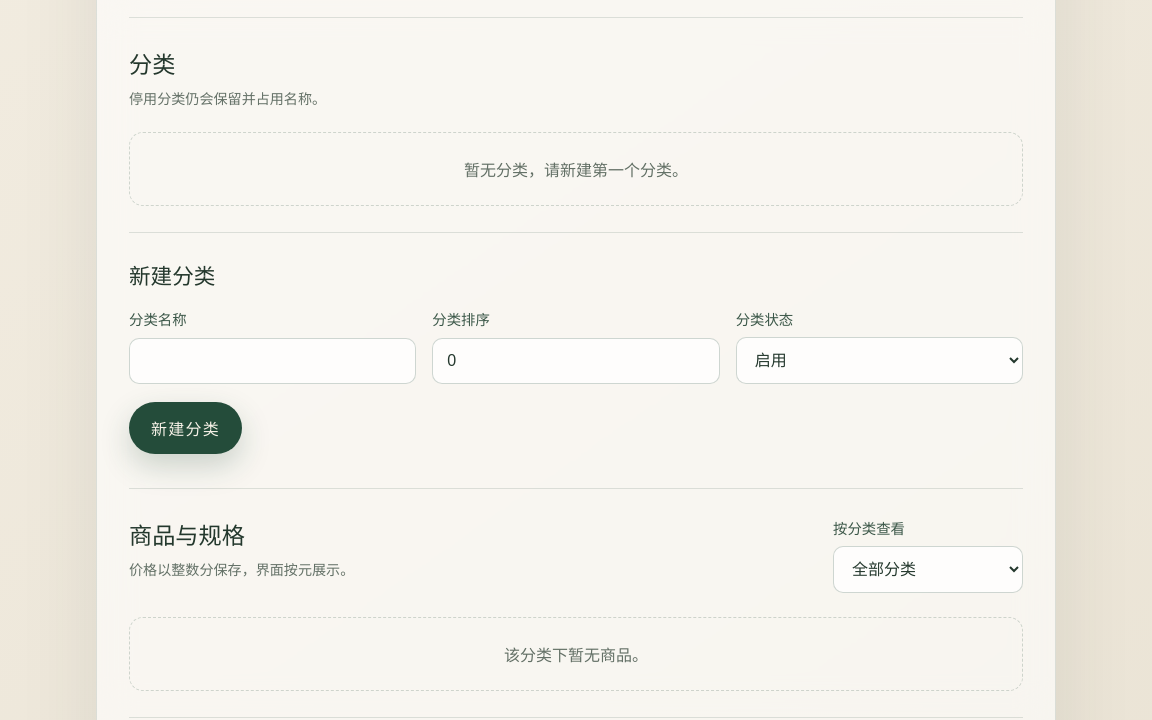
Test: product menu management for signed-in staff › creates and renames a category with trimmed input and string ids
The width and height of the screenshot is (1152, 720).
(page scrolled)
Expected: the text "暂无分类，请新建第一个分类。" is shown, [129,132,1023,206]
Type "  冷饮  " into the field labelled "分类名称" at (273, 361), box [129,338,416,384]
Replace the text in the number field labelled "分类排序" with "3" at (576, 361), box [432,338,720,384]
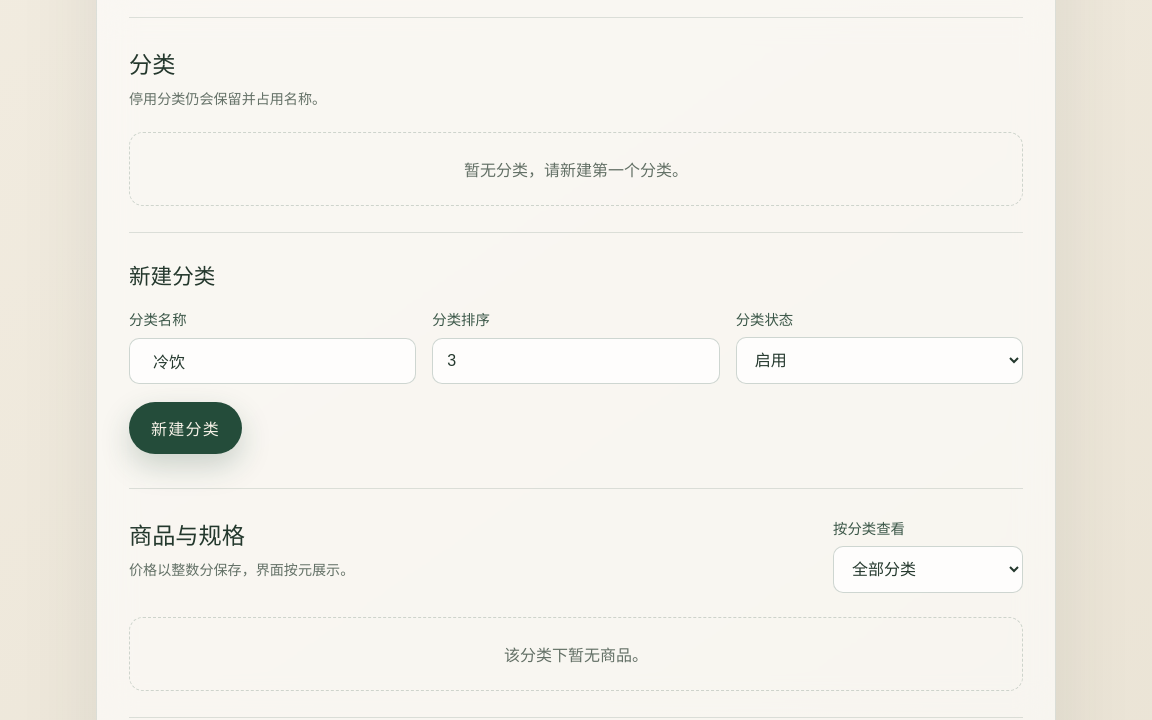
Click the button "新建分类" at (186, 428), box [129,402,242,454]
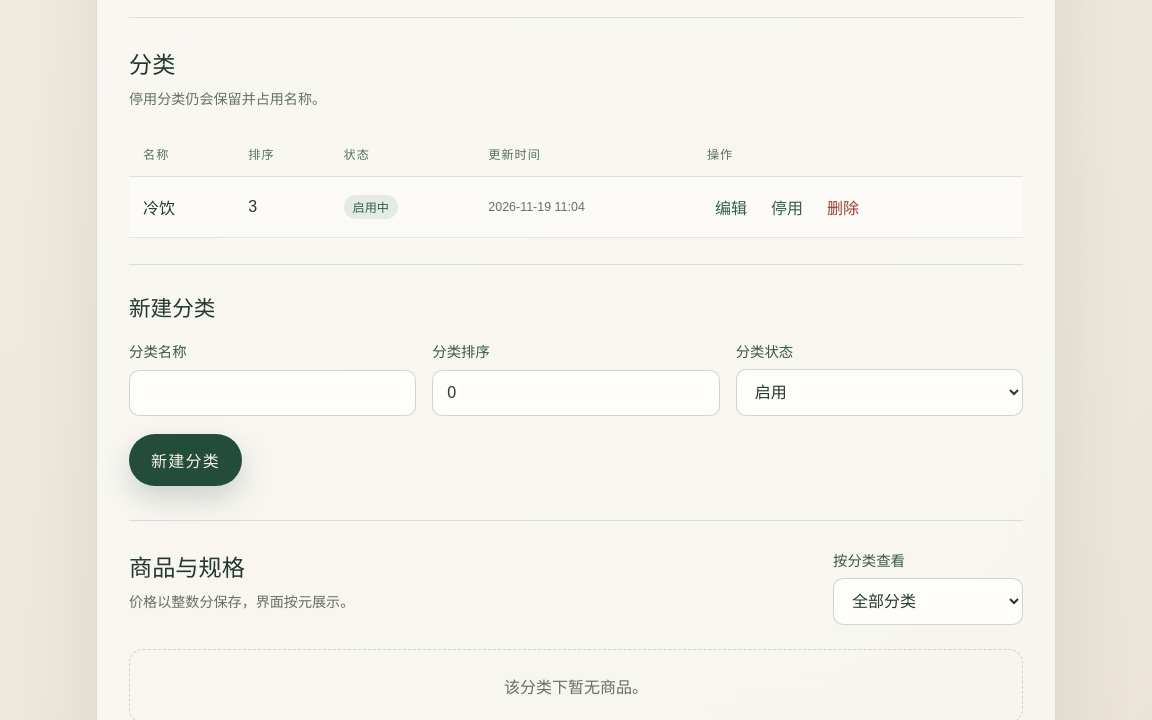
Now the table named "分类列表" is shown, box [129,132,1023,238]
Now the text "冷饮" is shown, box [129,176,234,238]
Click the button with aria-label "编辑分类 冷饮" at (731, 207), box [707,190,755,224]
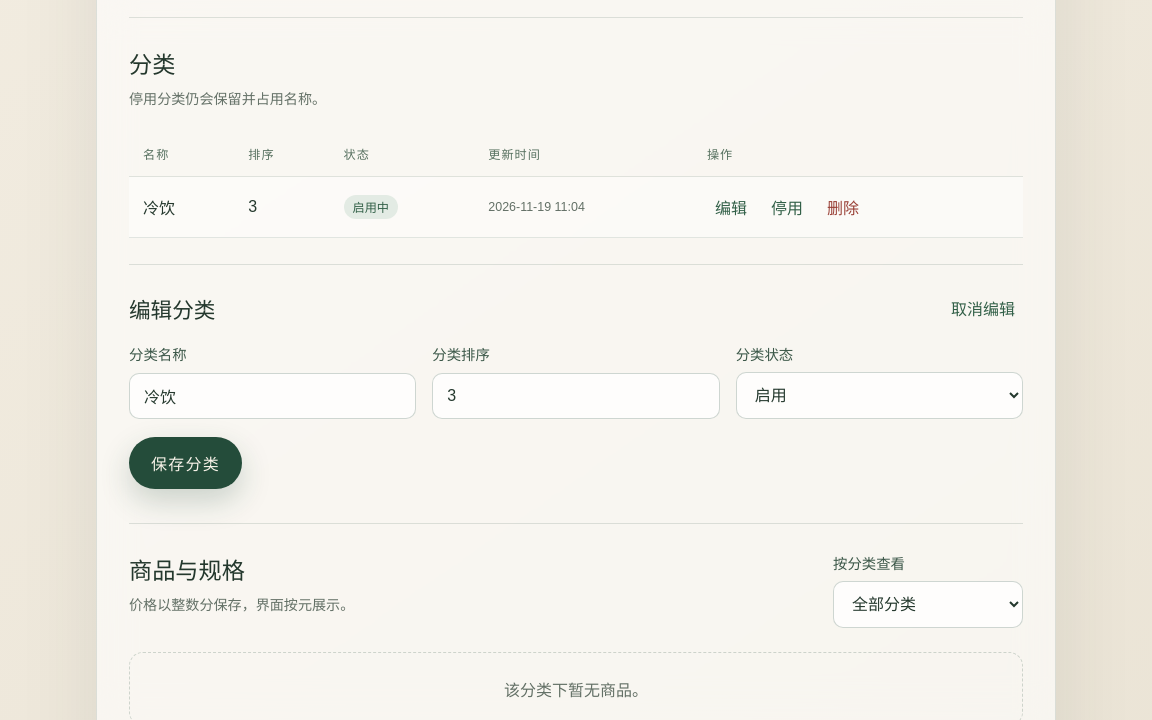
Replace the text in the field labelled "分类名称" with "  冰饮  " at (273, 396), box [129,372,416,419]
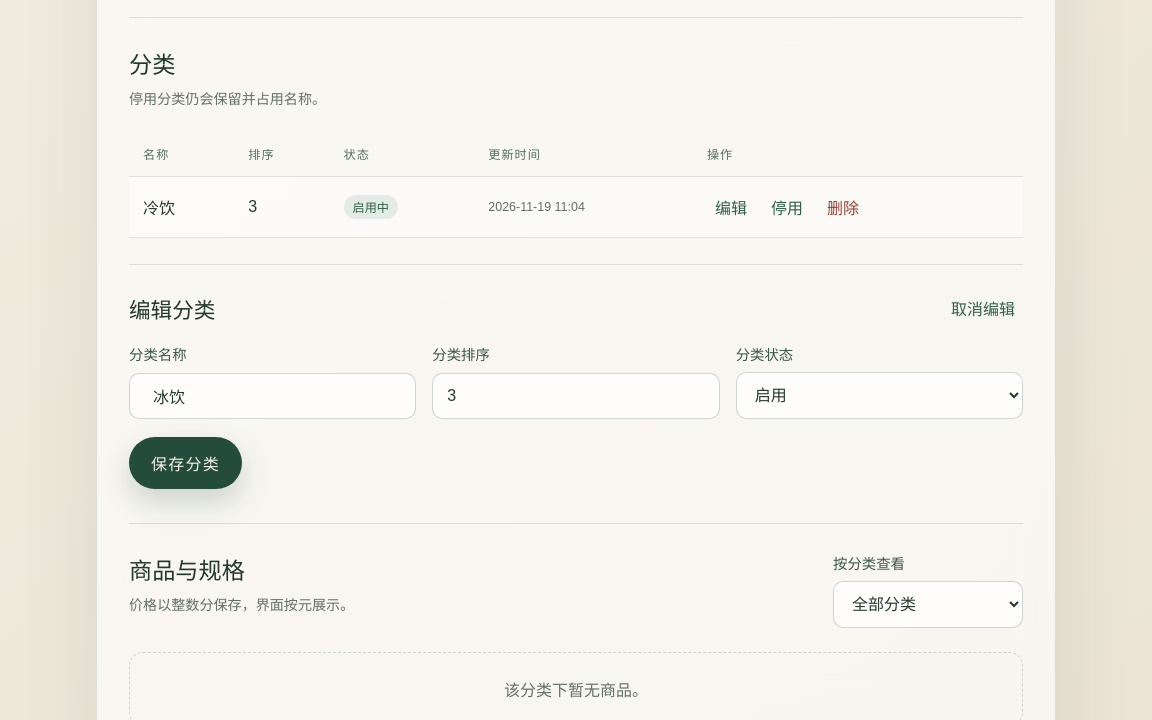
Select "停用" in the dropdown labelled "分类状态" at (879, 396), box [736,372,1023,419]
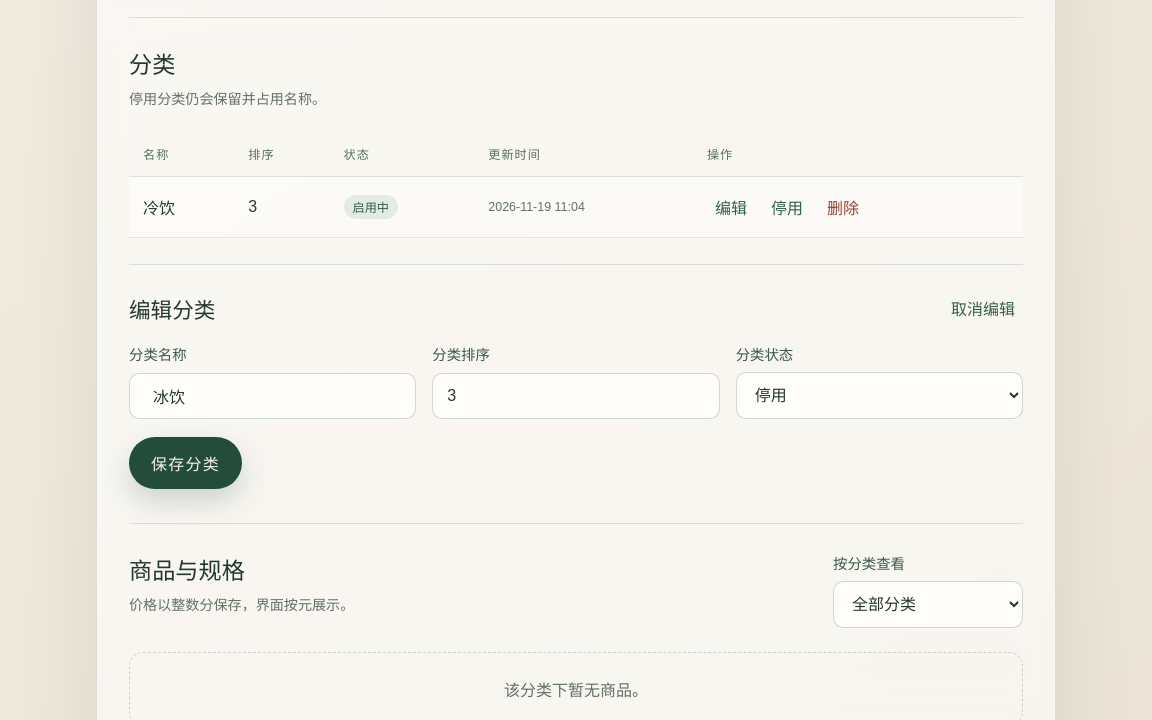
Click the button "保存分类" at (186, 463), box [129,437,242,489]
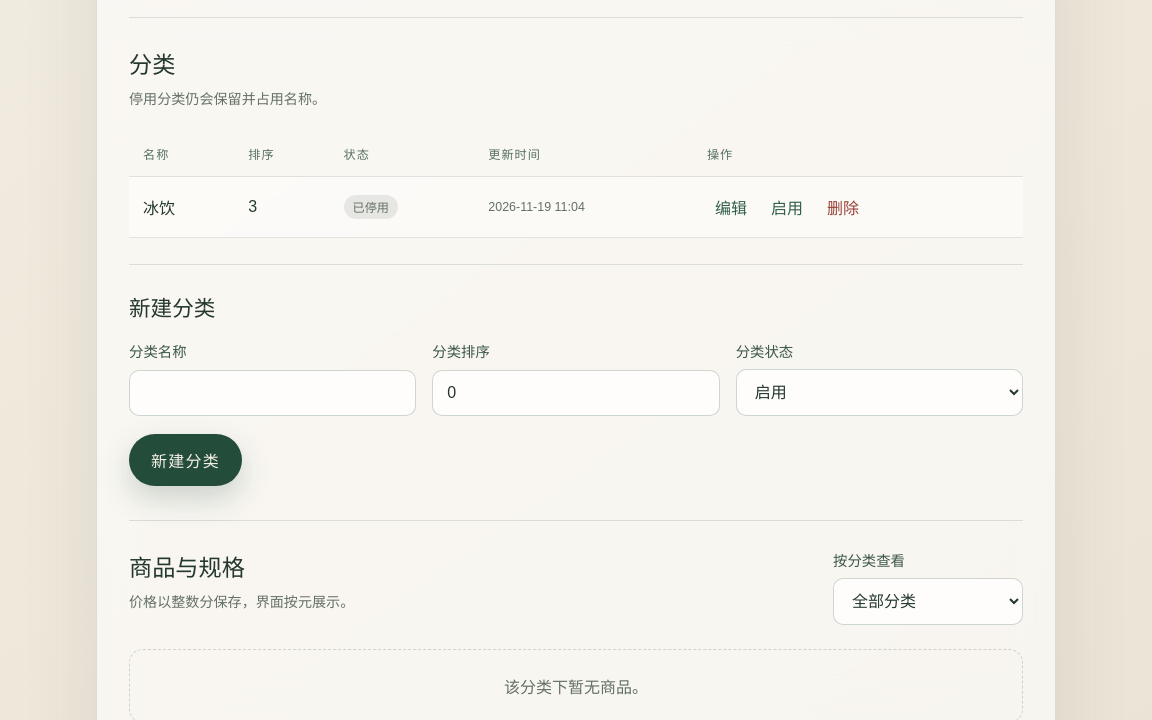
Now the text "冰饮" is shown, box [129,176,234,238]
Now the text "已停用" is shown, box [344,195,398,219]
